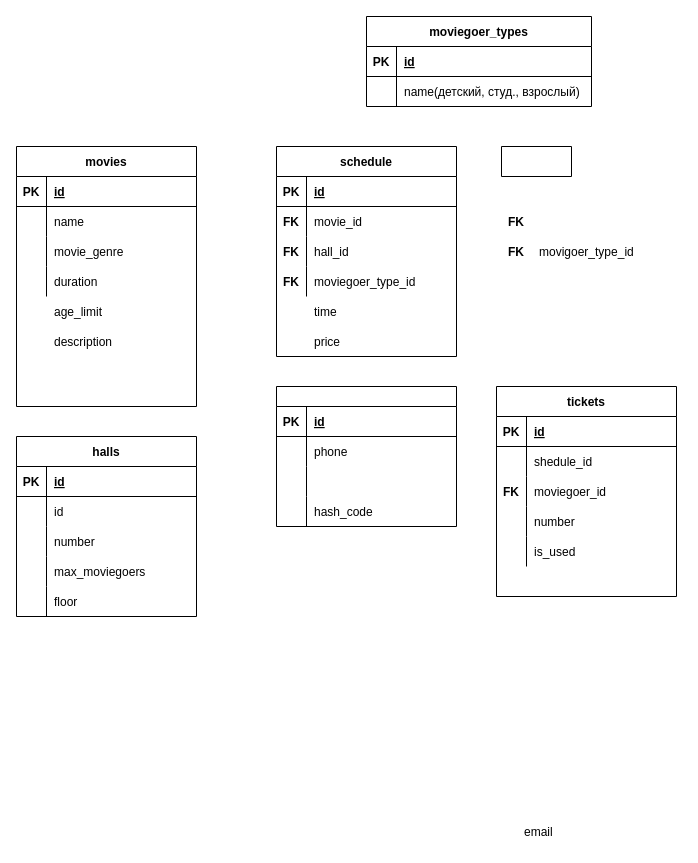
This 698x863 diagram has some shape labels left out. The box of each missing label's shape, as (x1, y1, x2, y2) in pixels:
moviegoers: (276, 386, 456, 526)
prices: (500, 146, 572, 176)
